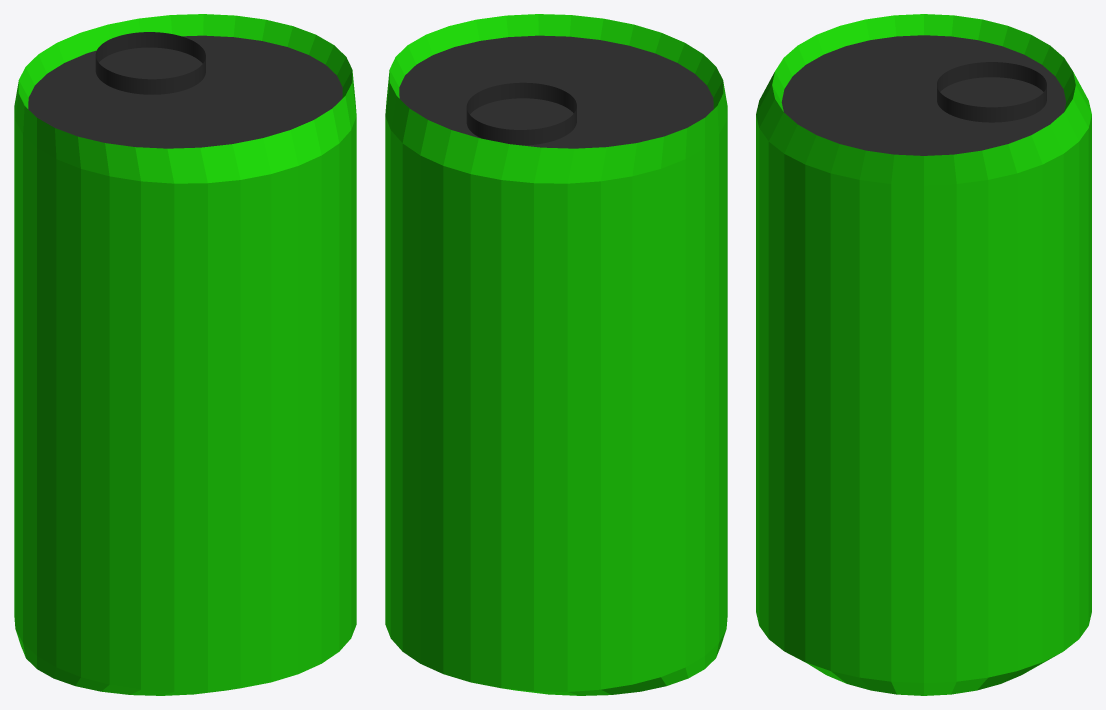
The model's file is Soda.fbx.
The picture shows the model from 3 angles, left to right: view 1: azimuth 30°, elevation 25°; view 2: azimuth 150°, elevation 25°; view 3: azimuth 270°, elevation 25°; orthographic projection. The views are drawn at different scales.
Parts seen in each view (by area): view 1: Cylinder, Cylinder.001, BézierCircle; view 2: Cylinder, Cylinder.001, BézierCircle; view 3: Cylinder, Cylinder.001, BézierCircle.
Boxes of the visible parts, left/top/right/bottom form: Cylinder: left=14, top=14, right=356, bottom=695; Cylinder.001: left=28, top=35, right=342, bottom=148; BézierCircle: left=95, top=32, right=205, bottom=94; Cylinder: left=385, top=14, right=727, bottom=695; Cylinder.001: left=399, top=35, right=713, bottom=148; BézierCircle: left=466, top=82, right=576, bottom=145; Cylinder: left=756, top=14, right=1091, bottom=695; Cylinder.001: left=781, top=35, right=1066, bottom=155; BézierCircle: left=937, top=62, right=1046, bottom=122.
Size of the model in its own units: 200 by 355 by 200.
